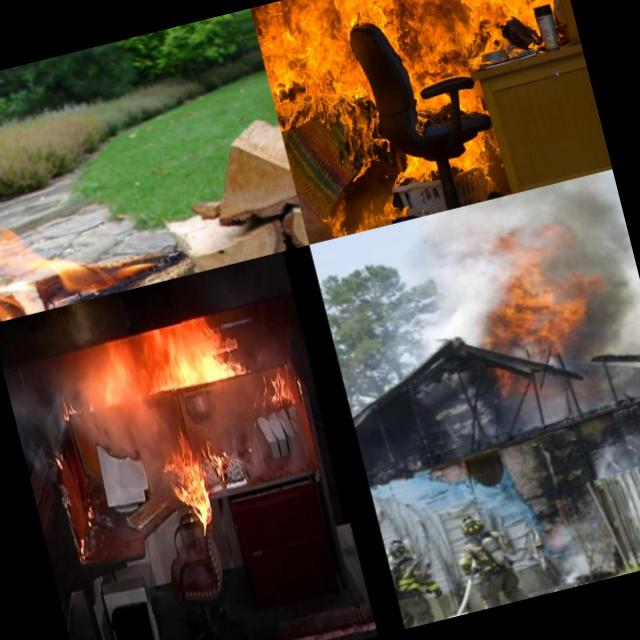fire: (250, 0, 593, 194), (0, 115, 151, 323), (458, 246, 602, 386), (63, 309, 249, 415), (148, 418, 234, 532), (245, 360, 302, 416)
smoke: (520, 168, 640, 364), (412, 192, 536, 285), (534, 498, 622, 592), (575, 377, 640, 483)
